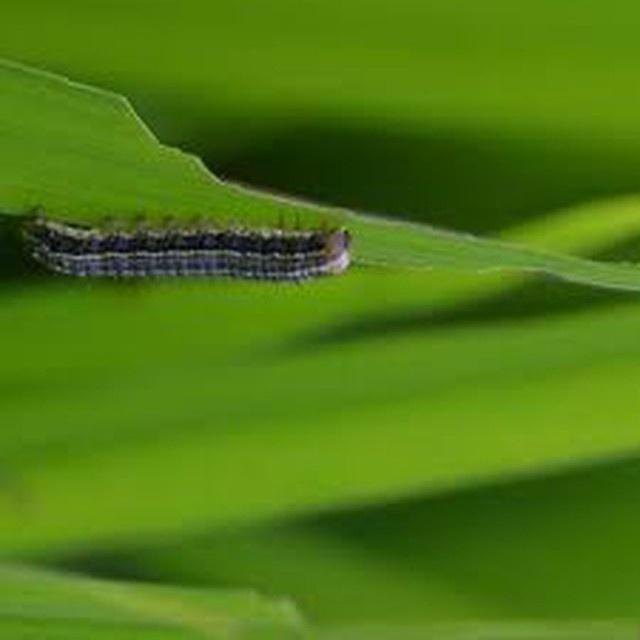gusano_cogollero: (16, 205, 354, 285)
